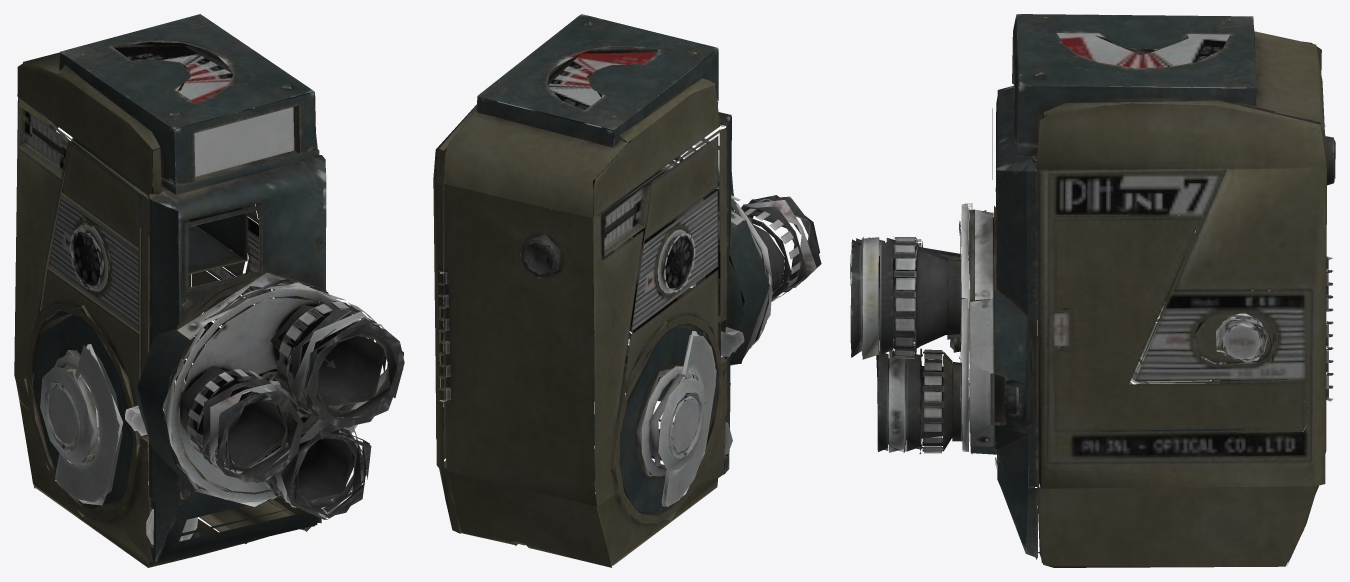
File: video_camera.glb
3 renders of one model, left to right at view 1: azimuth 30°, elevation 25°; view 2: azimuth 150°, elevation 25°; view 3: azimuth 270°, elevation 25°, orthographic. The views are drawn at different scales.
Visible parts, largest first — view 1: vintage_video_camera; view 2: vintage_video_camera; view 3: vintage_video_camera.
Part boxes in pixels (box(x1,y1,x2,y2)): vintage_video_camera: box(14, 14, 404, 567); vintage_video_camera: box(433, 14, 821, 567); vintage_video_camera: box(850, 14, 1335, 567).
Size of the model in its own units: 0.0711 by 0.1445 by 0.1322.
1 material, 1 textured.
